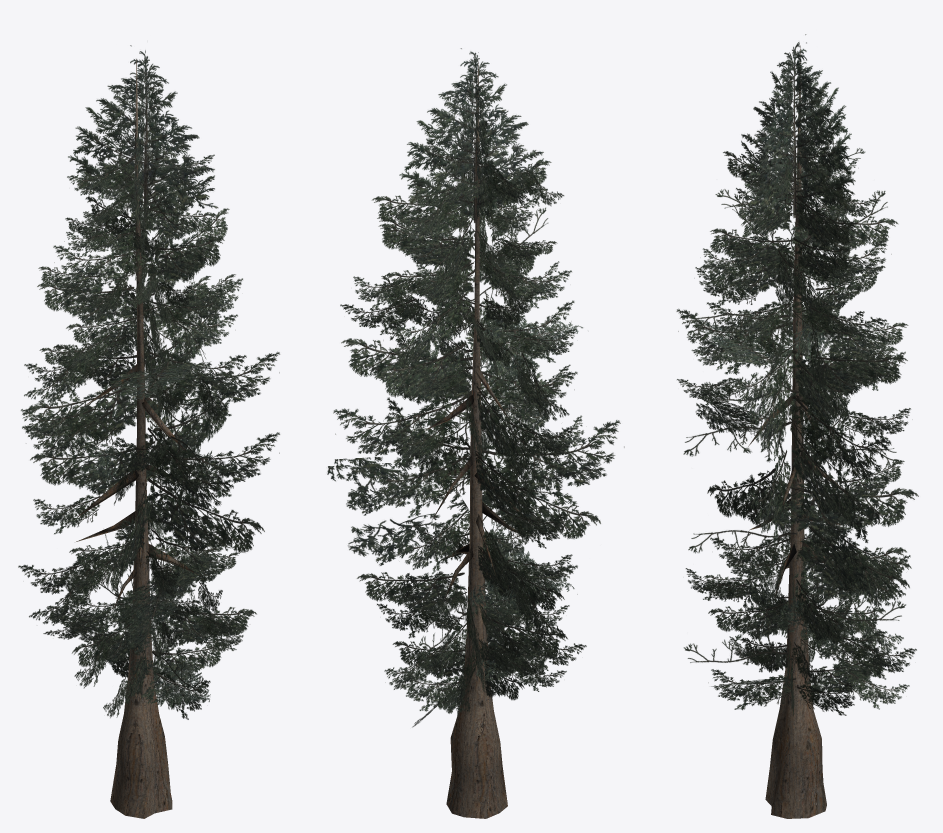
Rendered from tree08.glb.
3 renders of one model, left to right at view 1: azimuth 30°, elevation 25°; view 2: azimuth 150°, elevation 25°; view 3: azimuth 270°, elevation 25°, orthographic.
Parts seen in each view (by area): view 1: Tree_Branches_01_Tree_Branches_01_0, Tree_Trunk_01.001_Tree_Trunk_01_0; view 2: Tree_Branches_01_Tree_Branches_01_0, Tree_Trunk_01.001_Tree_Trunk_01_0; view 3: Tree_Branches_01_Tree_Branches_01_0, Tree_Trunk_01.001_Tree_Trunk_01_0.
Boxes of the visible parts, x1=… form: Tree_Branches_01_Tree_Branches_01_0: x1=18, y1=45, x2=279, y2=719; Tree_Trunk_01.001_Tree_Trunk_01_0: x1=76, y1=59, x2=198, y2=818; Tree_Branches_01_Tree_Branches_01_0: x1=327, y1=48, x2=624, y2=727; Tree_Trunk_01.001_Tree_Trunk_01_0: x1=425, y1=61, x2=525, y2=818; Tree_Branches_01_Tree_Branches_01_0: x1=676, y1=34, x2=918, y2=716; Tree_Trunk_01.001_Tree_Trunk_01_0: x1=748, y1=45, x2=856, y2=818.
Bounding box in the file's own units: 7.81 × 23.19 × 7.49.
Materials: 2 (2 with a texture image).
